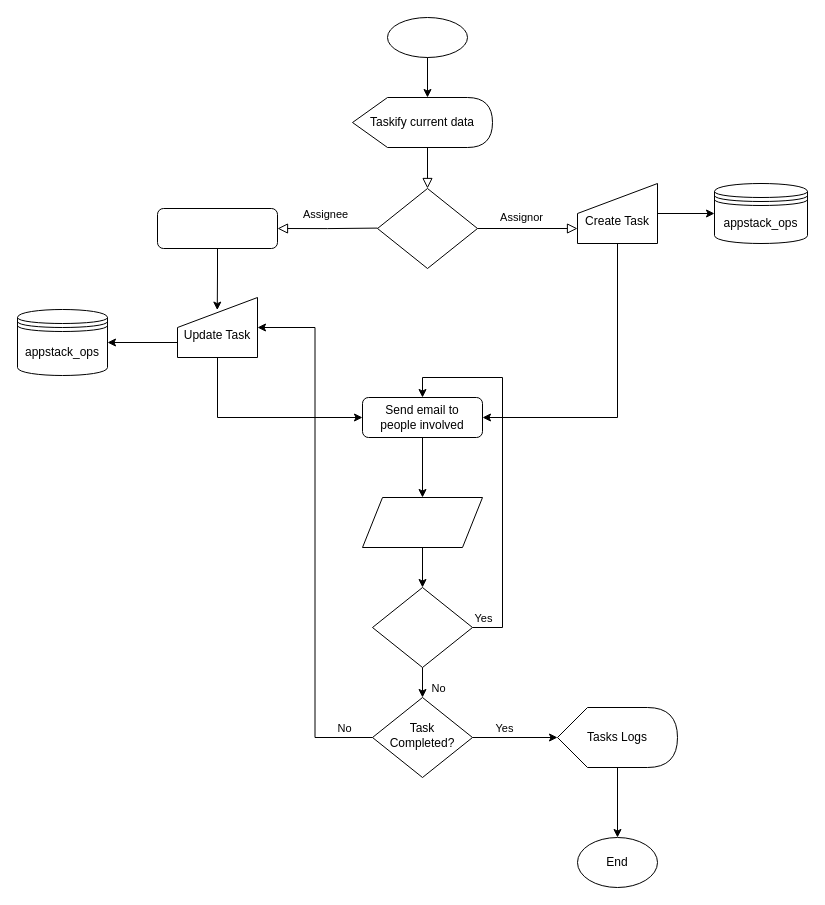
This 825x905 diagram has some shape labels left out. Here are the shapes that lost their labels. From the top down, the box of each, then its label:
(386, 16, 468, 58): Start
(156, 208, 278, 248): Receive email
(376, 188, 478, 268): Assignor / Assignee
(362, 496, 482, 548): Task Details
(372, 586, 472, 668): Task Date Due?
